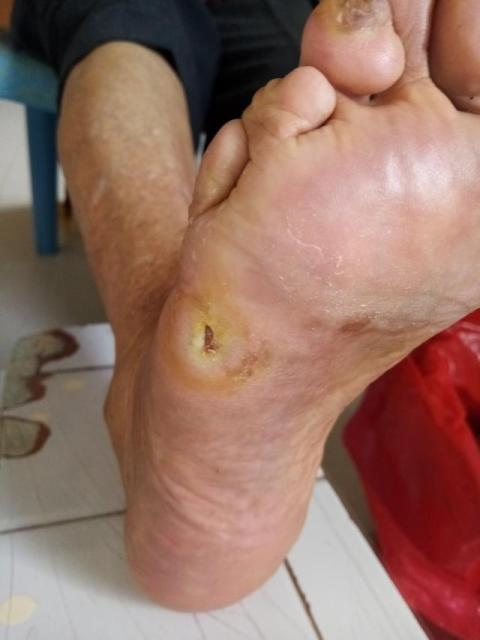wound: (198, 322, 225, 358)
